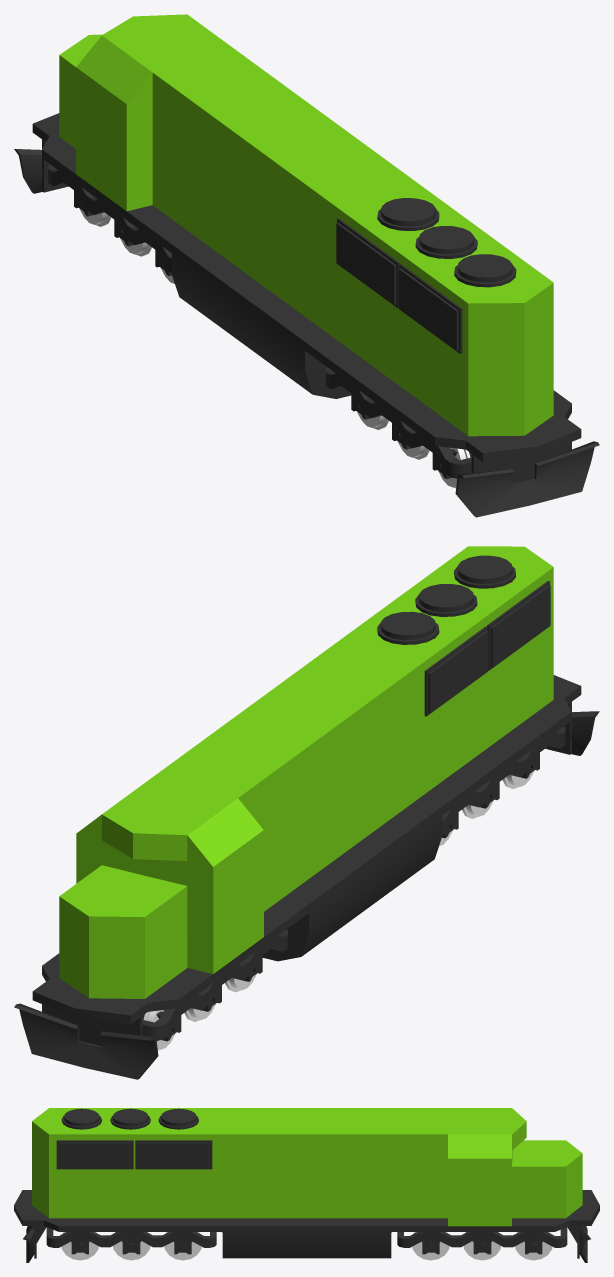
Rendered from EMD_SD60_TestExport.obj.
The picture shows the model from 3 angles, top to bottom: view 1: azimuth 30°, elevation 25°; view 2: azimuth 150°, elevation 25°; view 3: azimuth 270°, elevation 25°; orthographic projection. The views are drawn at different scales.
Parts seen in each view (by area): view 1: Cube_3, Cube.2, Cube, Cube_2, Cube.1, Cube.1_1, Cube.1_2, Cube_1, Cylinder, Cylinder.1, Cylinder.2; view 2: Cube_3, Cube.2, Cube, Cube.1, Cube_2, Cube.1_2, Cube.1_1, Cube_1, Cylinder, Cylinder.1, Cylinder.2; view 3: Cube_3, Cube.2, Cube.1, Cube_2, Cube.1_1, Cube.1_2, Cylinder.1_1, Cylinder.1_2, Cylinder, Cylinder.2, Cylinder.1, Cube (+5 smaller).
Boxes of the visible parts, x1,y1,x2,y2 form: Cube_3: [59, 14, 553, 436]; Cube.2: [32, 113, 581, 461]; Cube: [14, 149, 599, 517]; Cube_2: [398, 264, 462, 353]; Cube.1: [336, 218, 399, 308]; Cube.1_1: [325, 367, 471, 478]; Cube.1_2: [48, 164, 171, 272]; Cube_1: [42, 139, 571, 483]; Cylinder: [454, 254, 516, 287]; Cylinder.1: [415, 226, 477, 258]; Cylinder.2: [377, 198, 439, 230]; Cube_3: [59, 546, 553, 998]; Cube.2: [32, 675, 581, 1024]; Cube: [14, 711, 599, 1079]; Cube.1: [424, 626, 488, 716]; Cube_2: [487, 581, 550, 670]; Cube.1_2: [142, 929, 288, 1040]; Cube.1_1: [442, 726, 565, 834]; Cube_1: [42, 702, 571, 1045]; Cylinder: [454, 555, 515, 588]; Cylinder.1: [415, 584, 477, 616]; Cylinder.2: [377, 611, 439, 644]; Cube_3: [32, 1108, 582, 1226]; Cube.2: [14, 1190, 599, 1258]; Cube.1: [135, 1140, 212, 1169]; Cube_2: [56, 1140, 133, 1169]; Cube.1_1: [46, 1227, 216, 1247]; Cube.1_2: [397, 1227, 567, 1247]; Cylinder.1_1: [61, 1232, 201, 1260]; Cylinder.1_2: [412, 1232, 552, 1260]; Cylinder: [61, 1108, 101, 1129]; Cylinder.2: [158, 1108, 198, 1129]; Cylinder.1: [110, 1108, 150, 1129]; Cube: [23, 1226, 590, 1262].
Size of the model in its own units: 281 by 416 by 1644.
